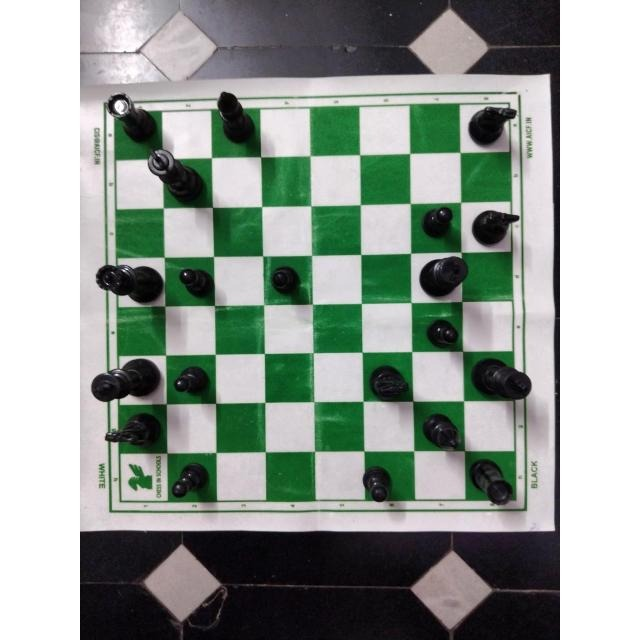black-bishop: (207, 86, 261, 148), (417, 410, 464, 454)
black-king: (88, 355, 160, 406), (146, 147, 208, 205), (468, 356, 535, 400), (412, 252, 472, 299)
black-knight: (468, 100, 522, 152), (103, 409, 164, 453), (360, 360, 415, 404), (473, 203, 521, 251)
black-pawn: (167, 460, 213, 504), (263, 263, 310, 299), (169, 363, 213, 400), (358, 463, 396, 505), (174, 260, 213, 300), (418, 205, 460, 239), (422, 318, 464, 351)
black-queen: (92, 252, 164, 308)
black-rook: (100, 87, 160, 146), (466, 455, 516, 511)
